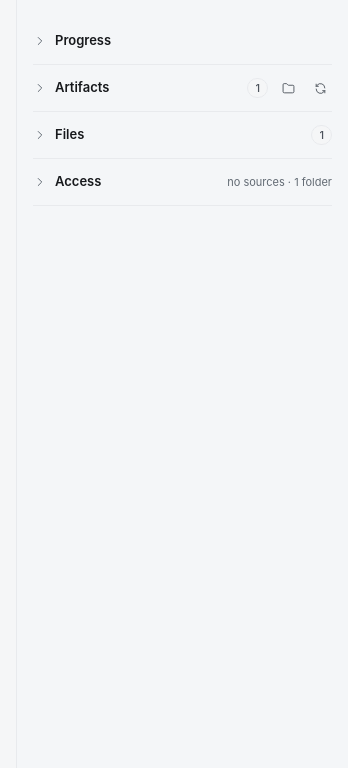
RightRail preview notification › ignores artifact and root lists that complete after the session changes
Click the button with test id "rail-toggle-artifacts" at (150, 88), box [33,78,268,98]
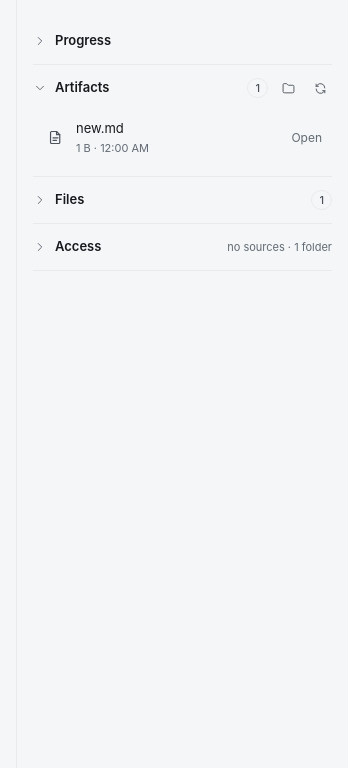
Check: the button "new.md 1 B · 12:00 AM Open" is shown, box [33,110,332,165]
Click the button with test id "rail-toggle-files" at (40, 200), box [33,190,332,210]
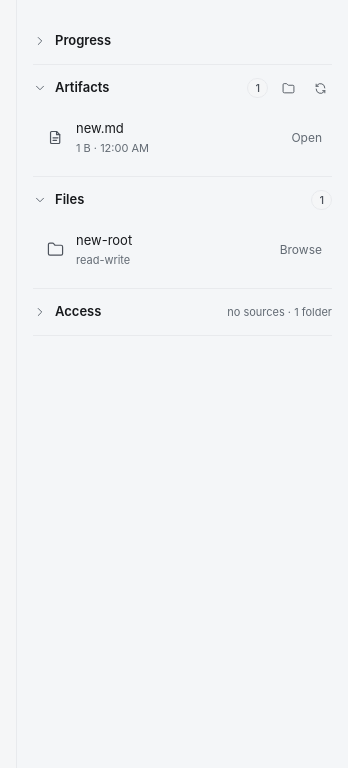
Check: the button "new.md 1 B · 12:00 AM Open" is shown, box [33,110,332,165]
Check: the button "new-root read-write Browse" is shown, box [33,222,332,277]
